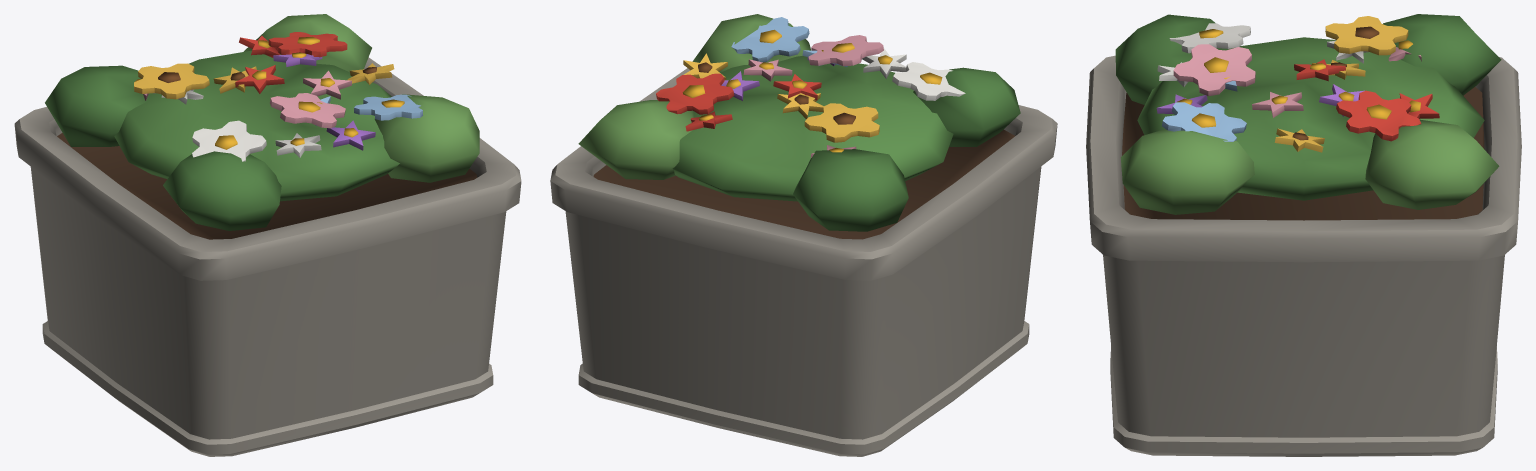
The model's file is flowerTub.glb.
The picture shows the model from 3 angles, left to right: view 1: azimuth 30°, elevation 25°; view 2: azimuth 150°, elevation 25°; view 3: azimuth 270°, elevation 25°; orthographic projection. The views are drawn at different scales.
Parts seen in each view (by area): view 1: flowerTub; view 2: flowerTub; view 3: flowerTub.
Boxes of the visible parts, x1=… form: flowerTub: x1=14, y1=14, x2=521, y2=456; flowerTub: x1=550, y1=14, x2=1057, y2=456; flowerTub: x1=1086, y1=14, x2=1521, y2=456.
Size of the model in its own units: 0.7 by 0.5626 by 0.7.
